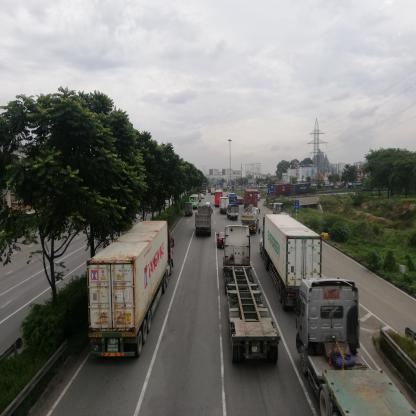bus: (191, 196, 199, 207), (231, 195, 238, 206), (216, 192, 221, 205)
car: (218, 232, 226, 248)
container: (91, 220, 175, 355), (304, 281, 387, 416), (227, 227, 257, 364), (264, 215, 305, 300), (274, 185, 294, 196), (296, 185, 317, 195), (246, 191, 259, 207)
truck: (196, 207, 213, 236), (243, 207, 260, 234), (227, 206, 240, 220), (220, 198, 230, 209), (186, 204, 193, 219)
